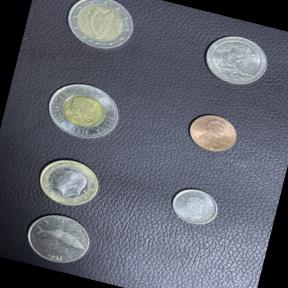coin: (36, 70, 129, 152), (16, 204, 98, 274), (197, 26, 277, 94), (30, 149, 109, 216), (57, 0, 143, 57), (181, 108, 245, 161), (165, 180, 225, 232)
